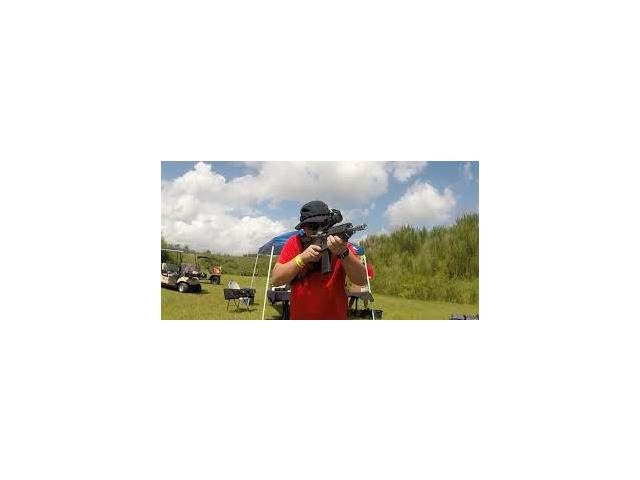rifle: (295, 222, 366, 275)
